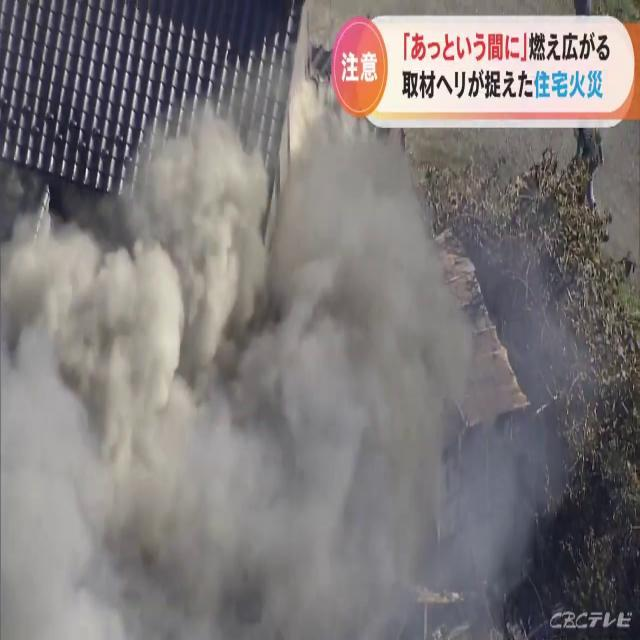Smoke: (1, 59, 587, 640)
